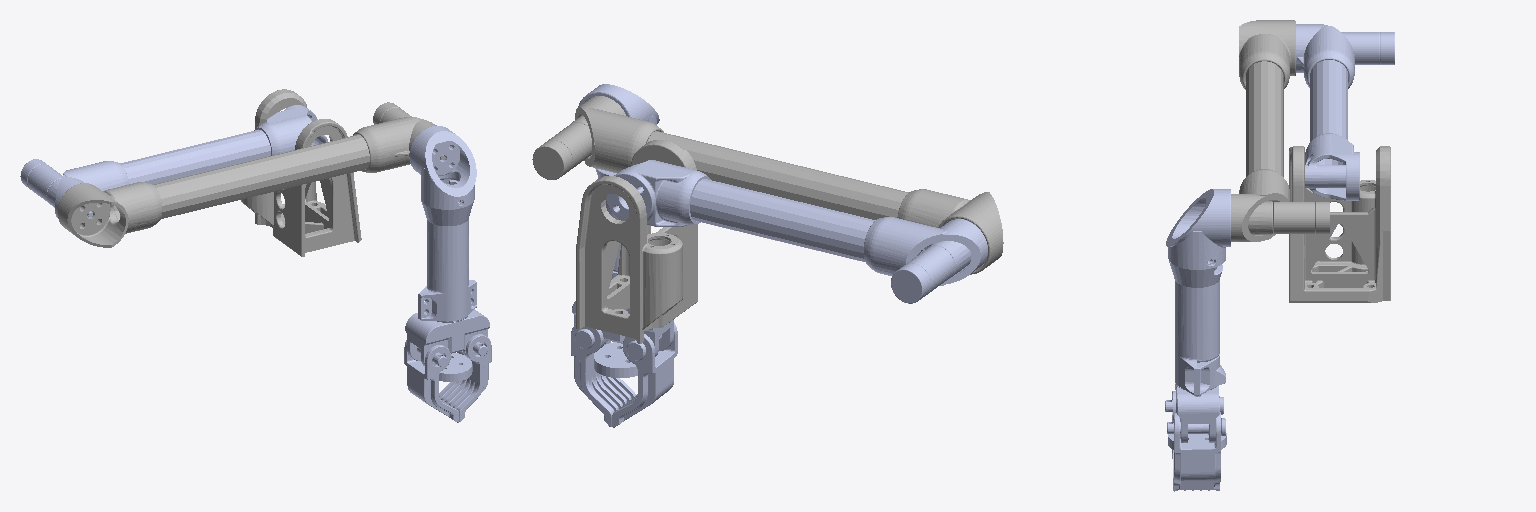
robot.urdf — raturdf:
<?xml version="1.0" encoding="utf-8"?>
<!-- This URDF was automatically created by SolidWorks to URDF Exporter! Originally created by [author] ([email redacted]) 
     Commit Version: 1.6.0-4-g7f85cfe  Build Version: 1.6.7995.38578
     For more information, please see http://wiki.ros.org/sw_urdf_exporter -->
<robot
  name="raturdf">
  <link
    name="Base">
    <inertial>
      <origin
        xyz="-0.00039417 0.00061669 0.037534"
        rpy="0 0 0" />
      <mass
        value="0.060547" />
      <inertia
        ixx="8.0889E-05"
        ixy="2.3251E-06"
        ixz="3.1219E-06"
        iyy="6.6926E-05"
        iyz="-1.1884E-06"
        izz="4.8658E-05" />
    </inertial>
    <visual>
      <origin
        xyz="0 0 0"
        rpy="0 0 0" />
      <geometry>
        <mesh
          filename="package://raturdf/meshes/Base.STL" />
      </geometry>
      <material
        name="">
        <color
          rgba="0.75294 0.75294 0.75294 1" />
      </material>
    </visual>
    <collision>
      <origin
        xyz="0 0 0"
        rpy="0 0 0" />
      <geometry>
        <mesh
          filename="package://raturdf/meshes/Base.STL" />
      </geometry>
    </collision>
  </link>
  <link
    name="Link1">
    <inertial>
      <origin
        xyz="0.12957 0.0024799 -1.2195E-07"
        rpy="0 0 0" />
      <mass
        value="0.09151" />
      <inertia
        ixx="2.2716E-05"
        ixy="2.9529E-06"
        ixz="-5.4729E-10"
        iyy="7.785E-05"
        iyz="5.7773E-10"
        izz="8.6518E-05" />
    </inertial>
    <visual>
      <origin
        xyz="0 0 0"
        rpy="0 0 0" />
      <geometry>
        <mesh
          filename="package://raturdf/meshes/Link1.STL" />
      </geometry>
      <material
        name="">
        <color
          rgba="0.79216 0.81961 0.93333 1" />
      </material>
    </visual>
    <collision>
      <origin
        xyz="0 0 0"
        rpy="0 0 0" />
      <geometry>
        <mesh
          filename="package://raturdf/meshes/Link1.STL" />
      </geometry>
    </collision>
  </link>
  <joint
    name="Base Joint"
    type="fixed">
    <origin
      xyz="0 -0.0071 0.0799999999999999"
      rpy="3.14159265358979 0 3.14159265358979" />
    <parent
      link="Base" />
    <child
      link="Link1" />
    <axis
      xyz="0 0 0" />
  </joint>
  <link
    name="Link2">
    <inertial>
      <origin
        xyz="0.16142 0.0018486 2.6762E-07"
        rpy="0 0 0" />
      <mass
        value="0.10764" />
      <inertia
        ixx="2.5367E-05"
        ixy="3.2819E-06"
        ixz="-3.4674E-10"
        iyy="0.00017935"
        iyz="8.4401E-10"
        izz="0.00018711" />
    </inertial>
    <visual>
      <origin
        xyz="0 0 0"
        rpy="0 0 0" />
      <geometry>
        <mesh
          filename="package://raturdf/meshes/Link2.STL" />
      </geometry>
      <material
        name="">
        <color
          rgba="0.75294 0.75294 0.75294 1" />
      </material>
    </visual>
    <collision>
      <origin
        xyz="0 0 0"
        rpy="0 0 0" />
      <geometry>
        <mesh
          filename="package://raturdf/meshes/Link2.STL" />
      </geometry>
    </collision>
  </link>
  <joint
    name="Elbow Joint"
    type="fixed">
    <origin
      xyz="0.2 -0.042735 0"
      rpy="3.14159265358979 0 3.14159265358979" />
    <parent
      link="Link1" />
    <child
      link="Link2" />
    <axis
      xyz="0 0 0" />
  </joint>
  <link
    name="Link3">
    <inertial>
      <origin
        xyz="0.047177 0.0018868 0.00014565"
        rpy="0 0 0" />
      <mass
        value="0.053164" />
      <inertia
        ixx="1.1228E-05"
        ixy="1.1536E-06"
        ixz="-7.4921E-08"
        iyy="2.977E-05"
        iyz="4.1231E-08"
        izz="2.7881E-05" />
    </inertial>
    <visual>
      <origin
        xyz="0 0 0"
        rpy="0 0 0" />
      <geometry>
        <mesh
          filename="package://raturdf/meshes/Link3.STL" />
      </geometry>
      <material
        name="">
        <color
          rgba="0.79216 0.81961 0.93333 1" />
      </material>
    </visual>
    <collision>
      <origin
        xyz="0 0 0"
        rpy="0 0 0" />
      <geometry>
        <mesh
          filename="package://raturdf/meshes/Link3.STL" />
      </geometry>
    </collision>
  </link>
  <joint
    name="Wrist"
    type="fixed">
    <origin
      xyz="0.265 -0.0444850000000003 0"
      rpy="0 1.5707963267949 0" />
    <parent
      link="Link2" />
    <child
      link="Link3" />
    <axis
      xyz="0 0 0" />
  </joint>
  <link
    name="Claw">
    <inertial>
      <origin
        xyz="0.0342548832532501 -1.52322437568797E-05 -7.87950812031202E-06"
        rpy="0 0 0" />
      <mass
        value="0.0633407039983011" />
      <inertia
        ixx="1.34662239979644E-05"
        ixy="3.16536824898843E-13"
        ixz="-5.36062667728837E-09"
        iyy="1.41052434414774E-05"
        iyz="-7.16587042470987E-09"
        izz="1.28526359054097E-05" />
    </inertial>
    <visual>
      <origin
        xyz="0 0 0"
        rpy="0 0 0" />
      <geometry>
        <mesh
          filename="package://raturdf/meshes/Claw.STL" />
      </geometry>
      <material
        name="">
        <color
          rgba="0.792156862745098 0.819607843137255 0.933333333333333 1" />
      </material>
    </visual>
    <collision>
      <origin
        xyz="0 0 0"
        rpy="0 0 0" />
      <geometry>
        <mesh
          filename="package://raturdf/meshes/Claw.STL" />
      </geometry>
    </collision>
  </link>
  <joint
    name="RollMotor"
    type="fixed">
    <origin
      xyz="0.119000000000001 0 0"
      rpy="-0.0327592341143941 0 0" />
    <parent
      link="Link3" />
    <child
      link="Claw" />
    <axis
      xyz="0 0 0" />
  </joint>
</robot>

--- Render facts (derived) ---
3 views of the same robot in one strip: view 1: azimuth 30°, elevation 25°; view 2: azimuth 150°, elevation 25°; view 3: azimuth 270°, elevation 25° (orthographic).
Model raturdf with 5 links and 4 joints (4 fixed), rooted at Base, posed all joints at 0.
Visible links, largest first — view 1: Link2, Link3, Link1, Base, Claw; view 2: Link1, Link2, Base, Claw, Link3; view 3: Link2, Base, Link1, Link3, Claw.
Boxes of the visible links, box(x1,y1,x2,y2) form: Link2: box(57, 102, 445, 247); Link3: box(409, 126, 476, 322); Link1: box(20, 105, 327, 217); Base: box(241, 89, 361, 256); Claw: box(404, 309, 491, 422); Link1: box(606, 160, 987, 303); Link2: box(532, 96, 1003, 274); Base: box(576, 140, 697, 343); Claw: box(571, 301, 677, 427); Link3: box(578, 84, 659, 279); Link2: box(1231, 20, 1329, 241); Base: box(1289, 146, 1390, 302); Link1: box(1296, 24, 1394, 200); Link3: box(1166, 189, 1230, 395); Claw: box(1165, 384, 1226, 491).
Bounding box of the posed robot: 0.311 × 0.1522 × 0.2186 m (x, y, z).
Meshes: 5 distinct files referenced, 5 mesh visuals loaded (5 binary STL).